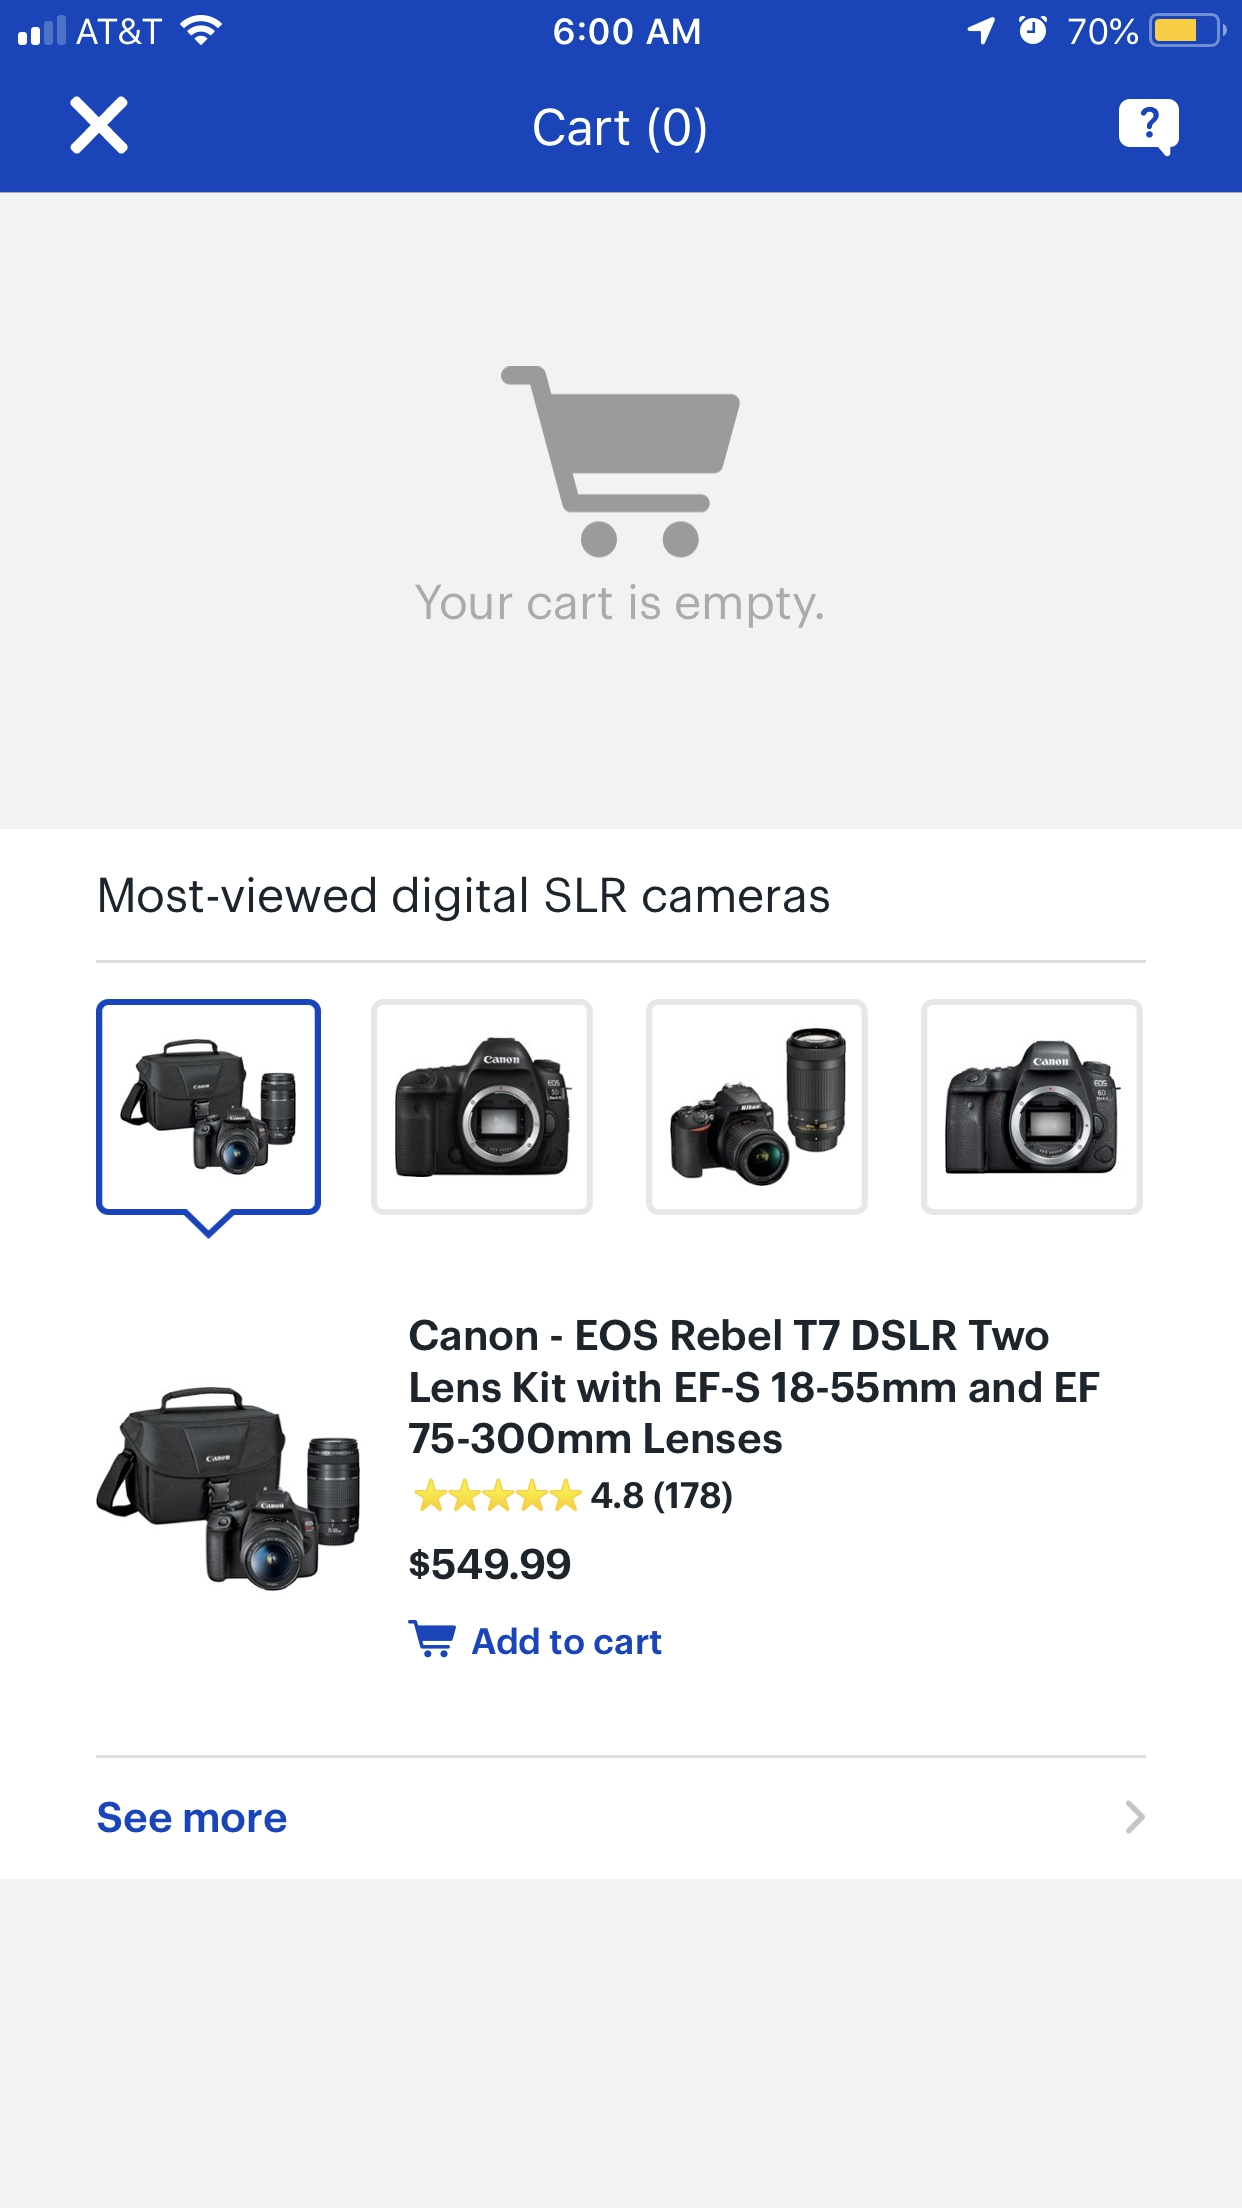Icon: (500, 365, 742, 560), (414, 1479, 582, 1513), (70, 96, 130, 156), (1118, 99, 1180, 158), (408, 1620, 456, 1659), (1125, 1799, 1146, 1833)
Image: (96, 1386, 362, 1592), (97, 998, 323, 1240), (372, 999, 594, 1216), (646, 999, 869, 1216), (921, 999, 1143, 1216)
Text: (409, 1319, 1101, 1454), (100, 877, 831, 924), (416, 584, 823, 629), (534, 108, 707, 155), (99, 1802, 288, 1833), (472, 1627, 663, 1656), (409, 1548, 572, 1582), (590, 1480, 732, 1515)
UpperTaskBar: (2, 2, 1242, 49)
